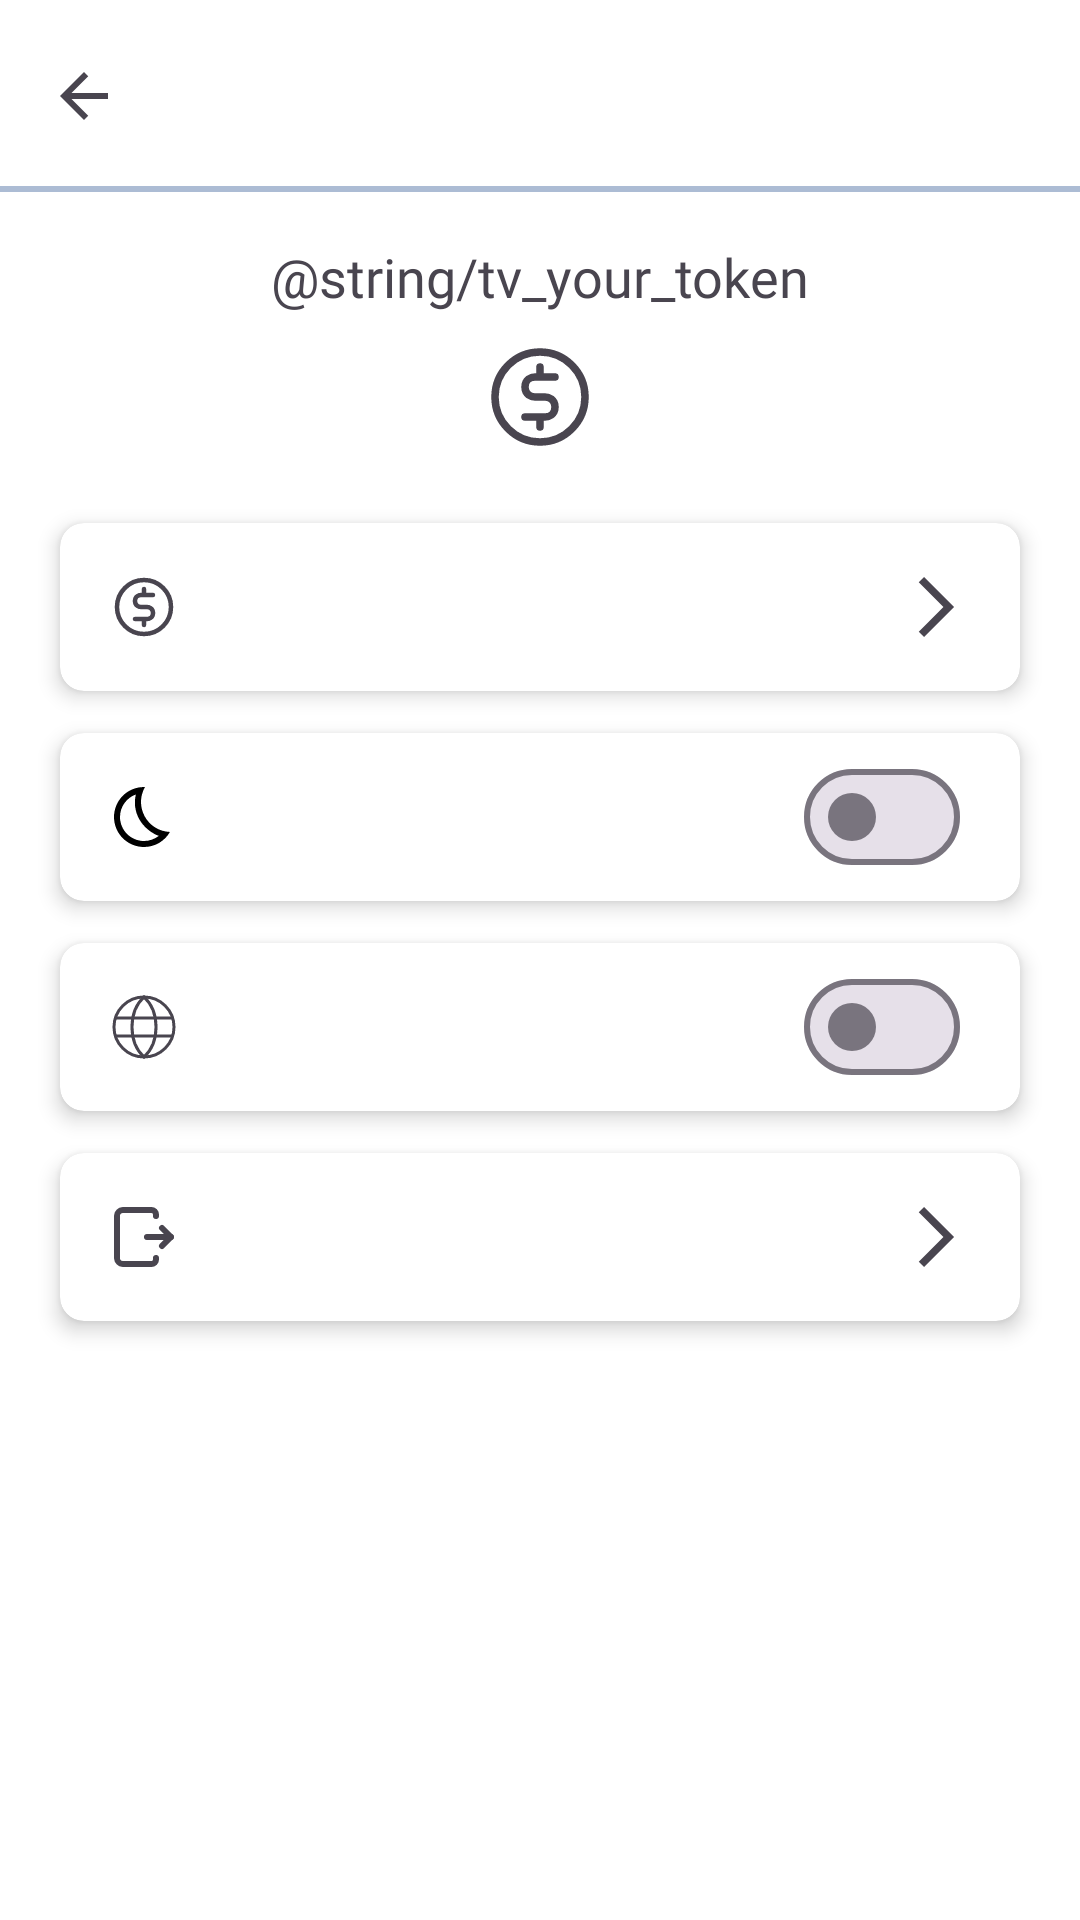

Screen size 1080×1920. Icon name, then its box in pixels as (x1, y1, x2, y2):
arrow card: (919, 577, 954, 637), (919, 1207, 954, 1267)
coin: (491, 348, 589, 446), (114, 577, 174, 637)
language: (112, 995, 176, 1059)
mode: (114, 787, 170, 847)
